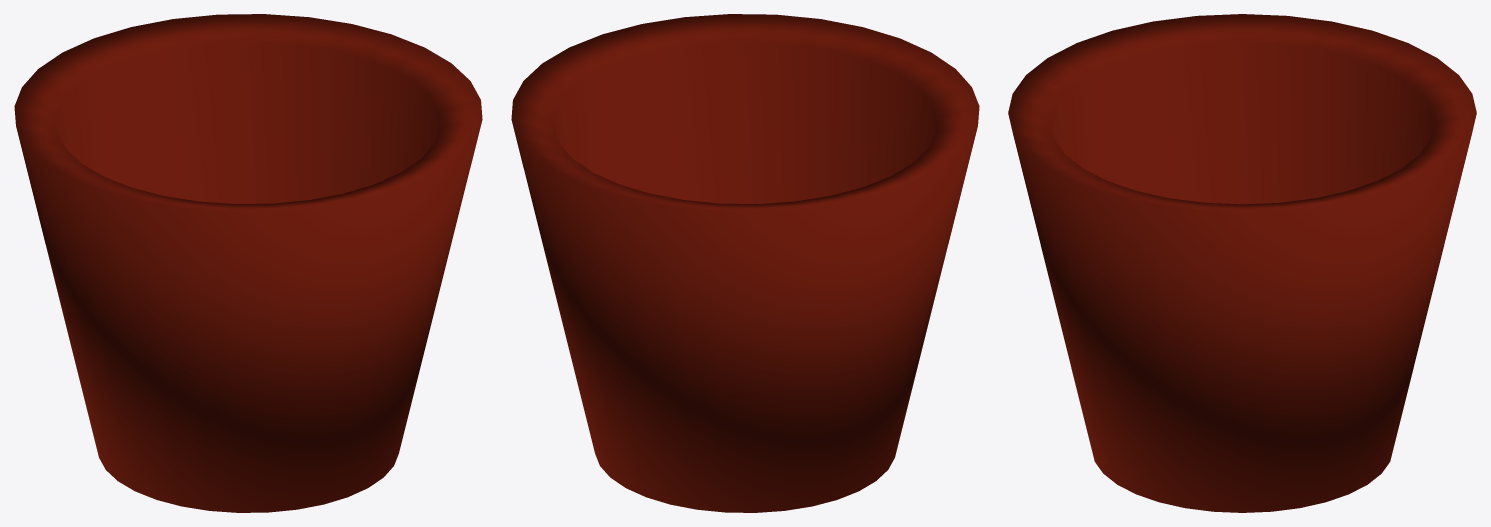
The model's file is Pot v2 FBX.fbx.
3 renders of one model, left to right at view 1: azimuth 30°, elevation 25°; view 2: azimuth 150°, elevation 25°; view 3: azimuth 270°, elevation 25°, orthographic.
Visible parts, largest first — view 1: Flower Pot; view 2: Flower Pot; view 3: Flower Pot.
Part boxes in pixels (left/top/right/bottom): Flower Pot: left=14, top=14, right=482, bottom=512; Flower Pot: left=511, top=14, right=979, bottom=512; Flower Pot: left=1008, top=14, right=1476, bottom=512.
Size of the model in its own units: 4.51 by 3.57 by 4.51.
